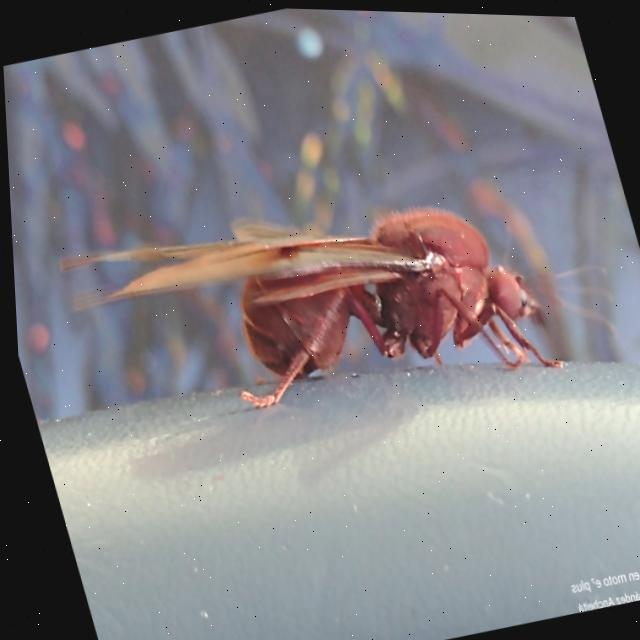Alive-Female-Alate: (46, 132, 633, 473)
